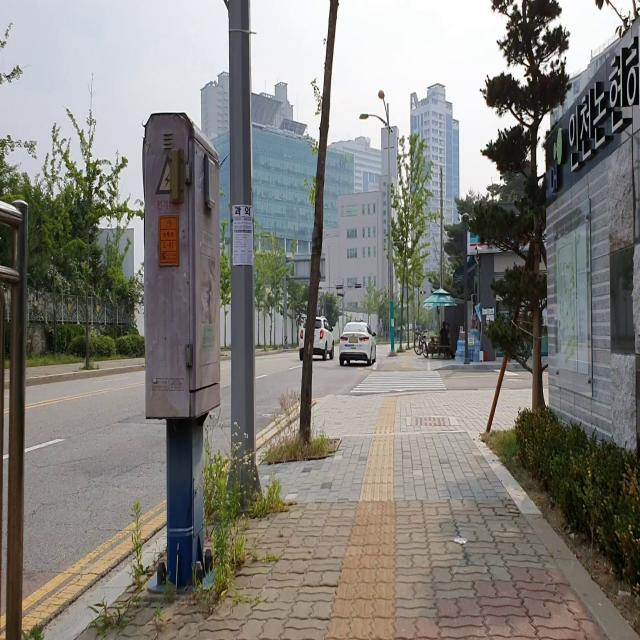횡단보도: (350, 370, 447, 393)
